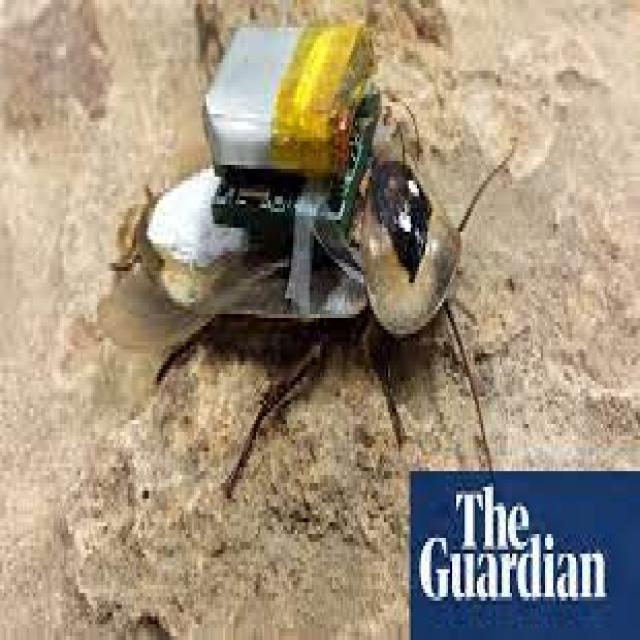Cockroach: (104, 0, 555, 510)
